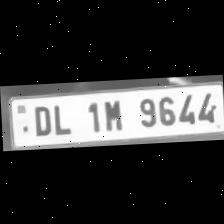1: (78, 97, 102, 133)
4: (192, 88, 216, 122), (174, 88, 196, 124)
6: (154, 90, 176, 126)
9: (131, 94, 158, 128)
D: (26, 101, 52, 135)
L: (47, 99, 74, 134)
M: (96, 96, 127, 130)
